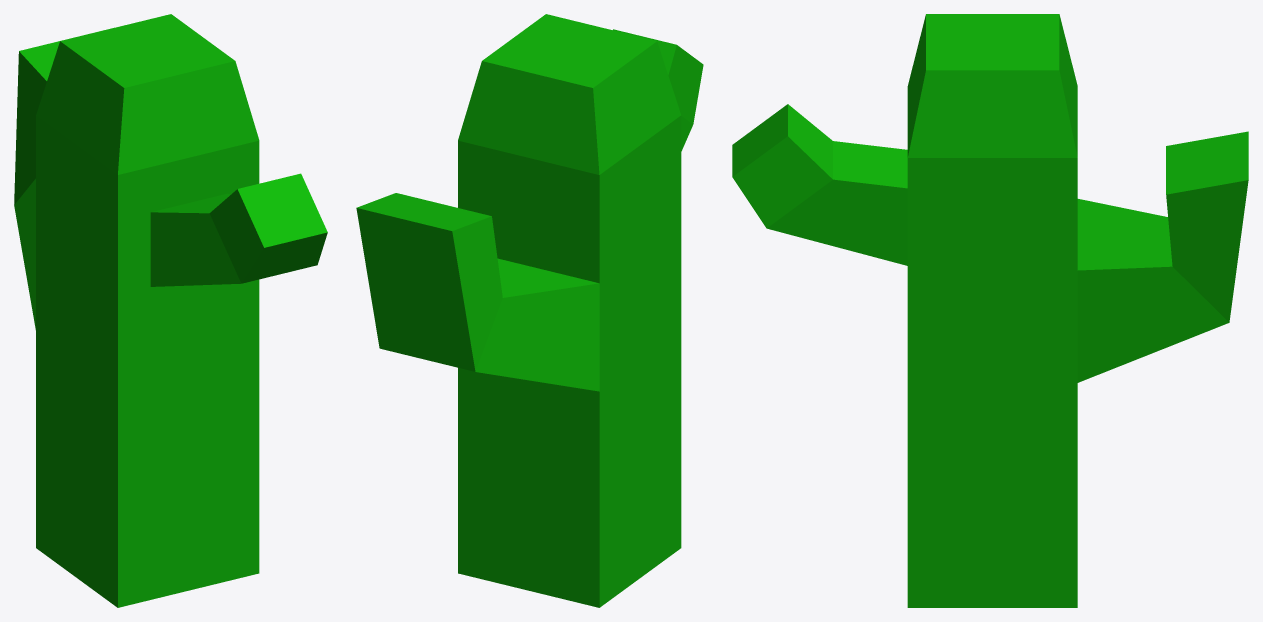
File: Cactus.glb
The picture shows the model from 3 angles, left to right: view 1: azimuth 30°, elevation 25°; view 2: azimuth 150°, elevation 25°; view 3: azimuth 270°, elevation 25°; orthographic projection. The views are drawn at different scales.
Visible parts, largest first — view 1: Cactus; view 2: Cactus; view 3: Cactus.
Boxes of the visible parts, <box> form: Cactus: <box>14,14,327,607</box>; Cactus: <box>356,14,703,607</box>; Cactus: <box>732,14,1248,607</box>.
Size of the model in its own units: 1.63 by 4.92 by 4.34.
